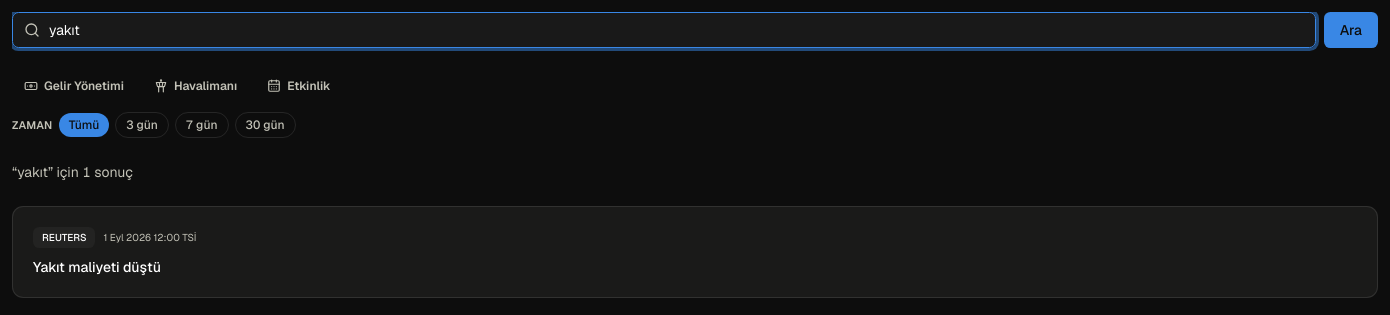
Test: SearchClient › clears the previous list when a search fails, and offers a retry
expect the text "Yakıt maliyeti düştü" is shown: met, box [33,258,161,277]
What coordinates should you click on to do the following:
click the button "7 gün"
I would click on:
 (202, 125)
Its box is [175,112,229,138].
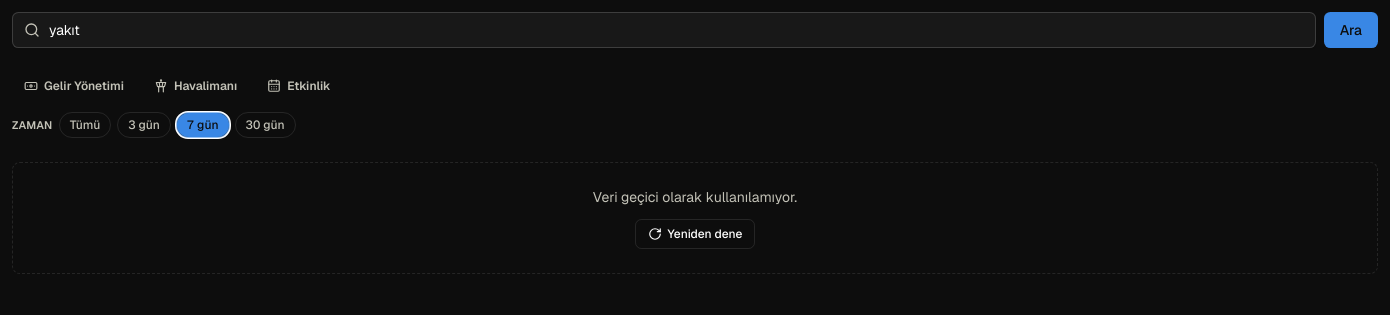
expect the text "Veri geçici olarak kullanılamıyor." is shown: met, box [593,187,797,207]
expect the button "Yakıt maliyeti düştü" is gone: met
expect the text "sonuç" is gone: met
What coordinates should you click on to do the following:
click the button "Yeniden dene"
I would click on:
 (695, 234)
Its box is [635,219,756,249].
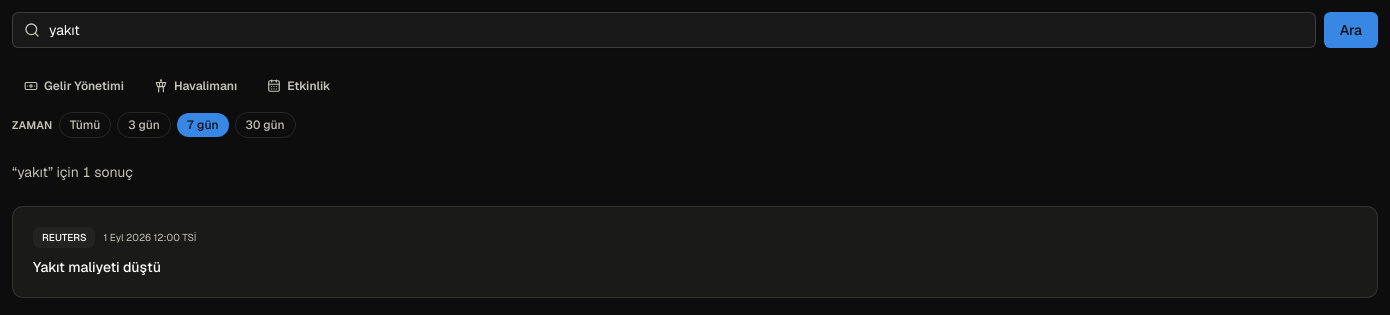
expect the text "Yakıt maliyeti düştü" is shown: met, box [33,258,161,277]
